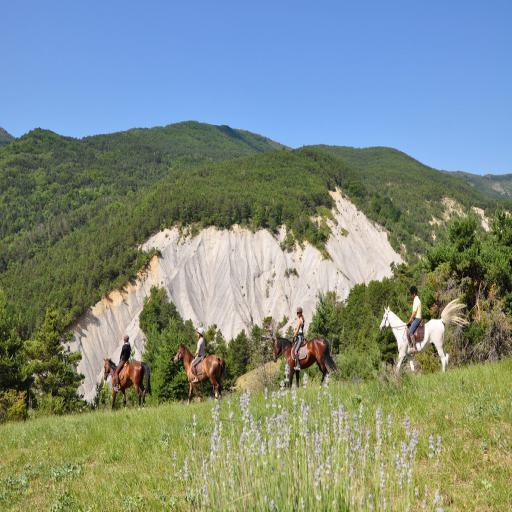horse: (379, 304, 469, 377), (173, 338, 226, 404), (272, 333, 338, 386), (102, 356, 152, 408)
